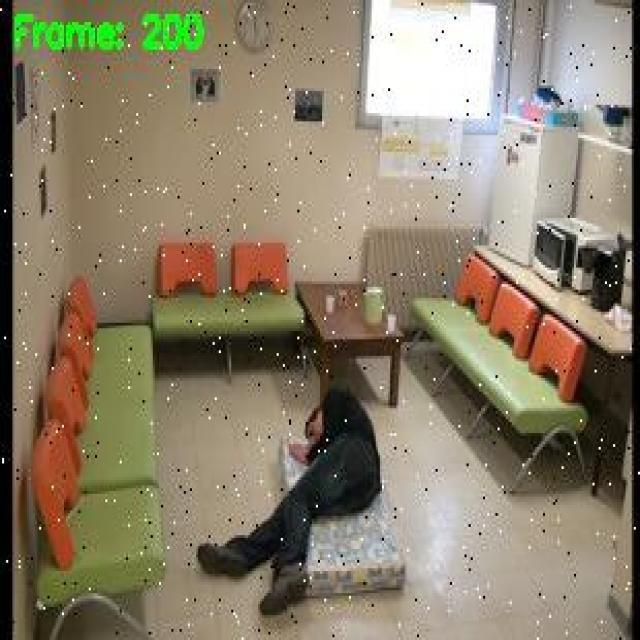fall: (198, 388, 380, 620)
